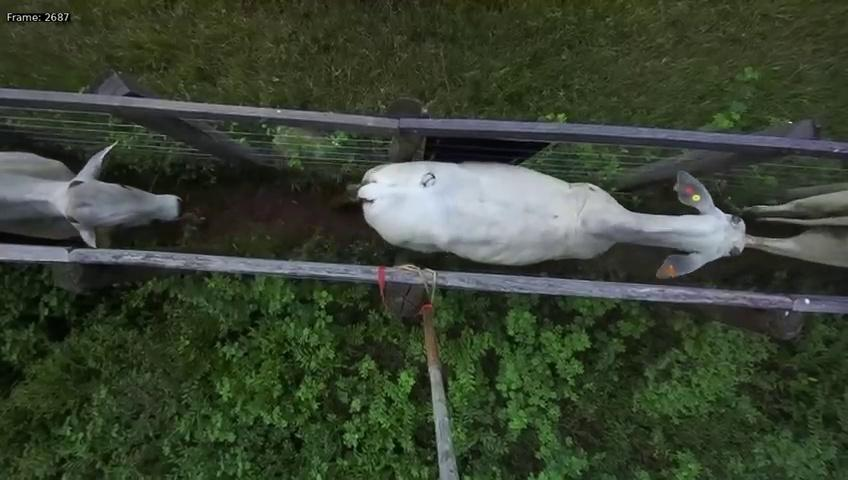cattle: (350, 155, 752, 281), (0, 138, 181, 251)
